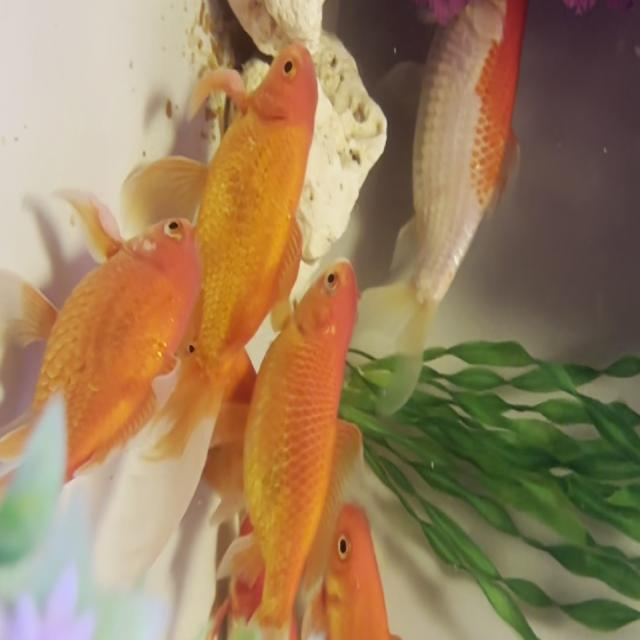fish: (0, 198, 207, 520), (349, 0, 519, 389), (230, 249, 361, 640), (225, 31, 382, 278), (195, 111, 304, 360), (280, 503, 410, 640)
